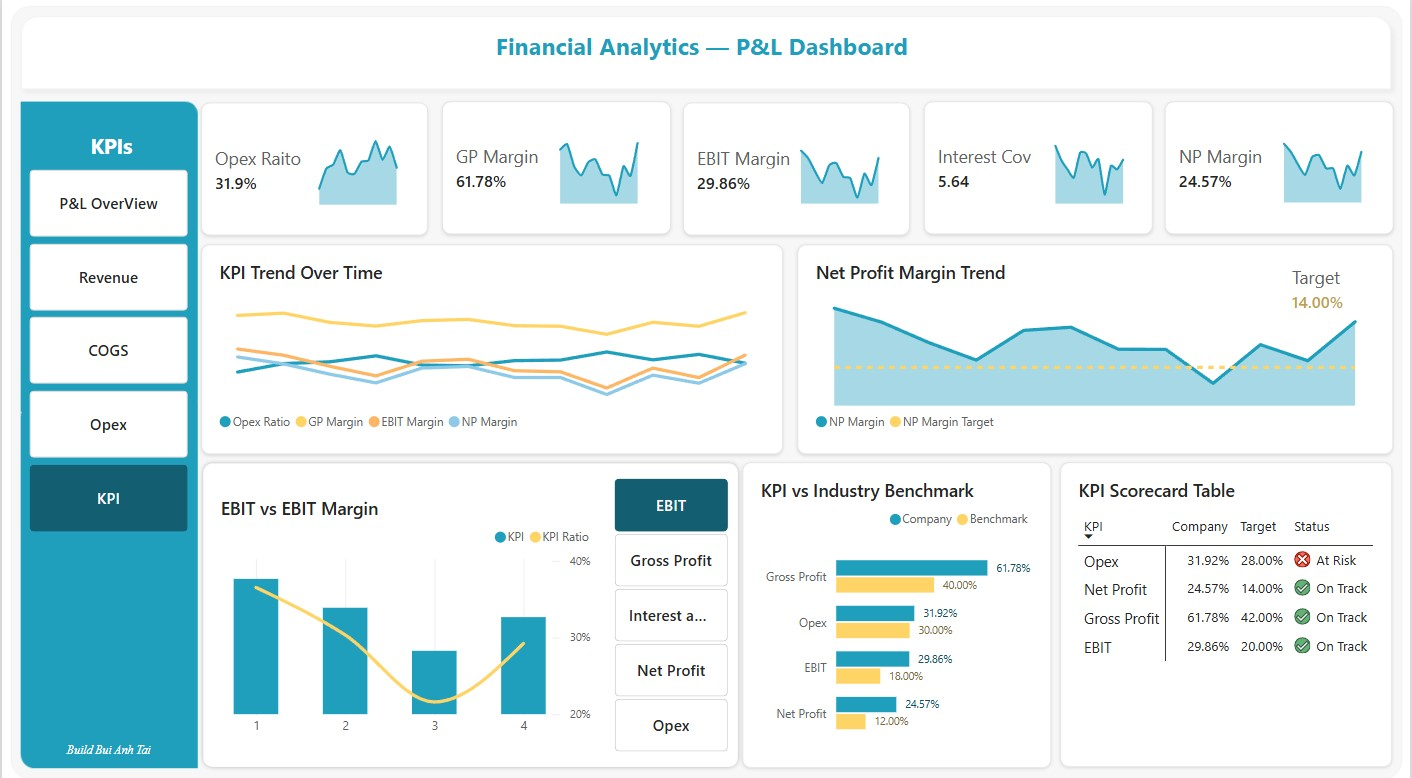

What the dashboard file says about the page in this screenshot:
{"tool":"powerbi","page":{"name":"KPI","canvas":[1280,720],"ordinal":4},"visuals":[{"type":"lineChart","title":"KPI Trend Over Time","fields":{"Category":["Calendar.Month in text"],"Y":["_M.M_Opex_Ratio","_M.M_GrossProfitMargin","_M.M_EBIT_Margin","_M.M_Net_Profit_Margin"]},"box":[181.2,223.8,528.8,191.2],"z":0},{"type":"cardVisual","title":"GrossProfit","fields":{"Data":["_M.M_Opex_Ratio"]},"box":[180.8,94.6,207.7,121.5],"z":1000},{"type":"textbox","box":[448.5,29.2,383,40.3],"z":2000},{"type":"textbox","box":[31,107,137,48],"z":3000},{"type":"lineChart","fields":{"Category":["Calendar.Month"],"Y":["_M.M_Opex_Ratio"]},"box":[271.5,107.7,116.9,96.2],"z":4000},{"type":"pageNavigator","box":[24.7,156,144,328.7],"z":5000},{"type":"cardVisual","title":"GrossProfit","fields":{"Data":["_M.M_GrossProfitMargin"]},"box":[400,94.2,207.5,120.8],"z":6000},{"type":"cardVisual","title":"GrossProfit","fields":{"Data":["_M.M_EBIT_Margin"]},"box":[618.8,95,207.5,120.8],"z":7000},{"type":"cardVisual","title":"GrossProfit","fields":{"Data":["_M.M_Interest_Coverage"]},"box":[837.7,94,208,121],"z":8000},{"type":"cardVisual","title":"GrossProfit","fields":{"Data":["_M.M_Net_Profit_Margin"]},"box":[1057,94,208,121],"z":9000},{"type":"lineChart","fields":{"Category":["Calendar.Month"],"Y":["_M.M_GrossProfitMargin"]},"box":[490.9,106.4,116.4,96.4],"z":10000},{"type":"lineChart","fields":{"Category":["Calendar.Month"],"Y":["_M.M_EBIT_Margin"]},"box":[710,106.4,116.4,96.4],"z":11000},{"type":"lineChart","fields":{"Category":["Calendar.Month"],"Y":["_M.M_Interest_Coverage"]},"box":[942,106,104,97],"z":12000},{"type":"lineChart","fields":{"Category":["Calendar.Month"],"Y":["_M.M_Net_Profit_Margin"]},"box":[1149,106,116,97],"z":13000},{"type":"shape","box":[178.9,418.9,494.4,284.4],"z":14000},{"type":"lineStackedColumnComboChart","fields":{"Category":["Calendar.Quarter"],"Y":["_M.M_Selected_KPI"],"Y2":["_M.M_Selected_KPI_Ratio"]},"box":[182.6,439.1,371,252],"z":15000},{"type":"advancedSlicerVisual","fields":{"Values":["KPI.Name"]},"box":[556.6,417.1,103,292],"z":16000},{"type":"clusteredBarChart","title":"KPI vs Industry Benchmark","fields":{"Category":["KPI_Target_Benchmark.KPI"],"Y":["_M.M_KPI_Company","_M.M_KPI_Benchmark"]},"box":[673.3,422.2,281.1,277.8],"z":17000},{"type":"pivotTable","title":"KPI Scorecard Table","fields":{"Rows":["KPI_Target_Benchmark.KPI"],"Values":["_M.M_KPI_Company","Max(KPI_Target_Benchmark.Target)","_M.M_KPI_Status"]},"box":[962.2,422.2,302.2,276.7],"z":18000},{"type":"lineChart","title":"Net Profit Margin Trend","fields":{"Category":["Calendar.Month in text"],"Y":["_M.M_Net_Profit_Margin","_M.M_NP_Target"]},"box":[722.5,223.8,542.5,191.2],"z":19000},{"type":"cardVisual","fields":{"Data":["_M.M_NP_Target"]},"box":[1161.2,238.8,77.5,50],"z":20000},{"type":"textbox","box":[22,675,150,25],"z":21000}]}

Visuals, with their boxes in screenshot pixels (x1, y1, x2, y2), scaled from the page's 1280x720 canvas onto the 1412x778 screenshot:
"KPI Trend Over Time" lineChart: 200 242 783 448
"GrossProfit" cardVisual: 199 102 429 234
textbox: 495 32 917 75
textbox: 34 116 185 167
lineChart - Calendar.Month x _M.M_Opex_Ratio: 299 116 428 220
pageNavigator: 27 169 186 524
"GrossProfit" cardVisual: 441 102 670 232
"GrossProfit" cardVisual: 683 103 912 233
"GrossProfit" cardVisual: 924 102 1154 232
"GrossProfit" cardVisual: 1166 102 1395 232
lineChart - Calendar.Month x _M.M_GrossProfitMargin: 542 115 670 219
lineChart - Calendar.Month x _M.M_EBIT_Margin: 783 115 912 219
lineChart - Calendar.Month x _M.M_Interest_Coverage: 1039 115 1154 219
lineChart - Calendar.Month x _M.M_Net_Profit_Margin: 1267 115 1395 219
shape: 197 453 743 760
lineStackedColumnComboChart - Calendar.Quarter x _M.M_Selected_KPI: 201 474 611 747
advancedSlicerVisual - KPI.Name: 614 451 728 766
"KPI vs Industry Benchmark" clusteredBarChart: 743 456 1053 756
"KPI Scorecard Table" pivotTable: 1061 456 1395 755
"Net Profit Margin Trend" lineChart: 797 242 1395 448
cardVisual - _M.M_NP_Target: 1281 258 1366 312
textbox: 24 729 190 756
